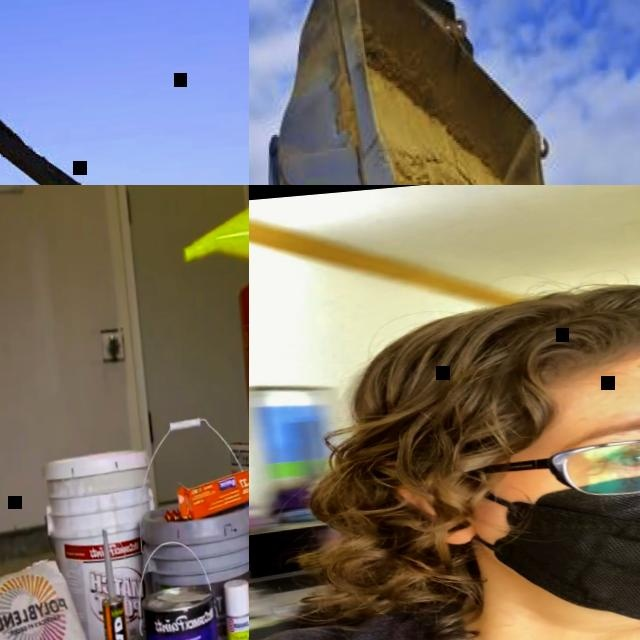Mask: (459, 451, 640, 636)
NO-Hardhat: (347, 264, 640, 428)
Person: (249, 260, 640, 640)
machinery: (249, 0, 614, 185), (0, 64, 203, 185)
